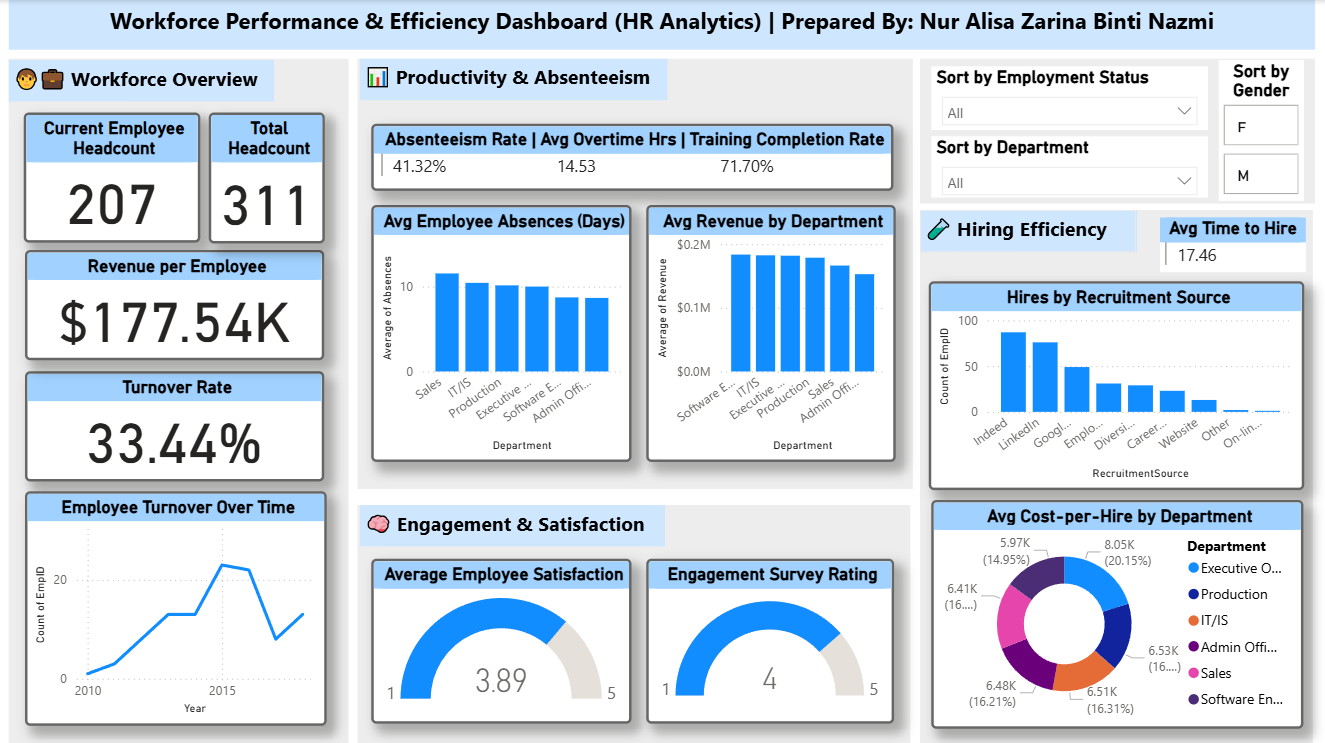

Layout of this report page (visuals, bound fields, positions):
{"tool":"powerbi","page":{"name":"Executive Overview","canvas":[1280,720],"ordinal":0},"visuals":[{"type":"shape","box":[887.6,57.2,381.3,139.8],"z":0},{"type":"shape","box":[345.3,487.2,533.8,233],"z":1000},{"type":"shape","box":[887.5,203.1,379.2,516.9],"z":2000},{"type":"shape","box":[345.3,57.2,536,415.2],"z":3000},{"type":"shape","box":[8.5,57.2,328.4,663.1],"z":4000},{"type":"textbox","box":[8.7,0,1261,47.8],"z":5000},{"type":"card","title":"Current Employee Headcount","fields":{"Values":["cleaned_hr_data.Headcount"]},"box":[22.9,108.6,170.1,125.5],"z":6000},{"type":"card","title":"Turnover Rate","fields":{"Values":["cleaned_hr_data.Turnover Rate"]},"box":[23.9,358.7,289.2,106.5],"z":7000},{"type":"gauge","title":"Average Employee Satisfaction","fields":{"MaxValue":["Max(cleaned_hr_data.EmpSatisfaction)1"],"MinValue":["Min(cleaned_hr_data.EmpSatisfaction)2"],"Y":["Avg(cleaned_hr_data.EmpSatisfaction)"]},"box":[358.3,539.9,251.5,159.5],"z":8000},{"type":"gauge","title":"Engagement Survey Rating","fields":{"MaxValue":["Max(cleaned_hr_data.EngagementSurvey)2"],"MinValue":["Min(cleaned_hr_data.EngagementSurvey)1"],"Y":["Avg(cleaned_hr_data.EngagementSurvey)"]},"box":[623.3,539.9,239.3,159.5],"z":9000},{"type":"columnChart","title":"Avg Employee Absences (Days)","fields":{"Category":["cleaned_hr_data.Department"],"Y":["Avg(cleaned_hr_data.Absences)"]},"box":[358.3,197.5,251.5,247.9],"z":10000},{"type":"columnChart","title":"Hires by Recruitment Source","fields":{"Category":["cleaned_hr_data.RecruitmentSource"],"Y":["CountNonNull(cleaned_hr_data.EmpID)"]},"box":[895.9,270.9,362.3,201.3],"z":11000},{"type":"donutChart","title":"Avg Cost-per-Hire by Department","fields":{"Category":["cleaned_hr_data.Department"],"Y":["Avg(cleaned_hr_data.HiringCost)"]},"box":[898.8,482.6,359.5,220.8],"z":12000},{"type":"columnChart","title":"Avg Revenue by Department","fields":{"Category":["cleaned_hr_data.Department"],"Y":["Avg(cleaned_hr_data.Revenue)"]},"box":[623.3,197.5,240.5,247.9],"z":13000},{"type":"card","title":"Revenue per Employee","fields":{"Values":["Avg(cleaned_hr_data.Revenue)"]},"box":[23.9,241.3,289.2,106.5],"z":14000},{"type":"lineChart","title":"Employee Turnover Over Time","fields":{"Category":["cleaned_hr_data.DateofTermination.Variation.Date Hierarchy.Year","cleaned_hr_data.DateofTermination.Variation.Date Hierarchy.Month"],"Y":["CountNonNull(cleaned_hr_data.EmpID)"]},"box":[23.9,474,291.3,226.1],"z":15000},{"type":"multiRowCard","title":"Absenteeism Rate | Avg Overtime Hrs | Training Completion Rate","fields":{"Values":["cleaned_hr_data.Absenteeism Rate","Avg(cleaned_hr_data.OvertimeHours)","cleaned_hr_data.Training Completion Rate"]},"box":[358.3,119,504.3,65],"z":16000},{"type":"textbox","box":[8.8,57.5,256.2,40],"z":17000},{"type":"textbox","box":[347.4,57.2,296.6,40.3],"z":18000},{"type":"textbox","box":[887.5,203.1,209.7,40.3],"z":19000},{"type":"multiRowCard","title":"Avg Time to Hire","fields":{"Values":["cleaned_hr_data.Avg Time to Hire"]},"box":[1119,209.8,141.1,52.8],"z":20000},{"type":"textbox","box":[347.4,487.2,294.5,40.3],"z":21000},{"type":"slicer","title":"Sort by Employment Status","fields":{"Values":["cleaned_hr_data.EmploymentStatus"]},"box":[898.2,63.6,266.9,61.4],"z":22000},{"type":"slicer","title":"Sort by Department","fields":{"Values":["cleaned_hr_data.Department"]},"box":[898.2,131.3,266.9,59.3],"z":23000},{"type":"advancedSlicerVisual","title":"Sort by Gender","fields":{"Values":["cleaned_hr_data.Sex"]},"box":[1176.3,57.9,82,136.3],"z":24000},{"type":"card","title":"Total Headcount","fields":{"Values":["CountNonNull(cleaned_hr_data.EmpID)"]},"box":[201.5,108.6,112.2,126.7],"z":25000}]}

Visuals, with their boxes in screenshot pixels (x1, y1, x2, y2), scaled from the page's 1280x720 canvas onto the 1325x743 screenshot:
shape: x1=919 y1=59 x2=1314 y2=203
shape: x1=357 y1=503 x2=910 y2=742
shape: x1=919 y1=210 x2=1311 y2=742
shape: x1=357 y1=59 x2=912 y2=487
shape: x1=9 y1=59 x2=349 y2=742
textbox: x1=9 y1=0 x2=1314 y2=49
"Current Employee Headcount" card: x1=24 y1=112 x2=200 y2=242
"Turnover Rate" card: x1=25 y1=370 x2=324 y2=480
"Average Employee Satisfaction" gauge: x1=371 y1=557 x2=631 y2=722
"Engagement Survey Rating" gauge: x1=645 y1=557 x2=893 y2=722
"Avg Employee Absences (Days)" columnChart: x1=371 y1=204 x2=631 y2=460
"Hires by Recruitment Source" columnChart: x1=927 y1=280 x2=1302 y2=487
"Avg Cost-per-Hire by Department" donutChart: x1=930 y1=498 x2=1303 y2=726
"Avg Revenue by Department" columnChart: x1=645 y1=204 x2=894 y2=460
"Revenue per Employee" card: x1=25 y1=249 x2=324 y2=359
"Employee Turnover Over Time" lineChart: x1=25 y1=489 x2=326 y2=722
"Absenteeism Rate | Avg Overtime Hrs | Training Completion Rate" multiRowCard: x1=371 y1=123 x2=893 y2=190
textbox: x1=9 y1=59 x2=274 y2=101
textbox: x1=360 y1=59 x2=667 y2=101
textbox: x1=919 y1=210 x2=1136 y2=251
"Avg Time to Hire" multiRowCard: x1=1158 y1=217 x2=1304 y2=271
textbox: x1=360 y1=503 x2=664 y2=544
"Sort by Employment Status" slicer: x1=930 y1=66 x2=1206 y2=129
"Sort by Department" slicer: x1=930 y1=135 x2=1206 y2=197
"Sort by Gender" advancedSlicerVisual: x1=1218 y1=60 x2=1303 y2=200
"Total Headcount" card: x1=209 y1=112 x2=325 y2=243
